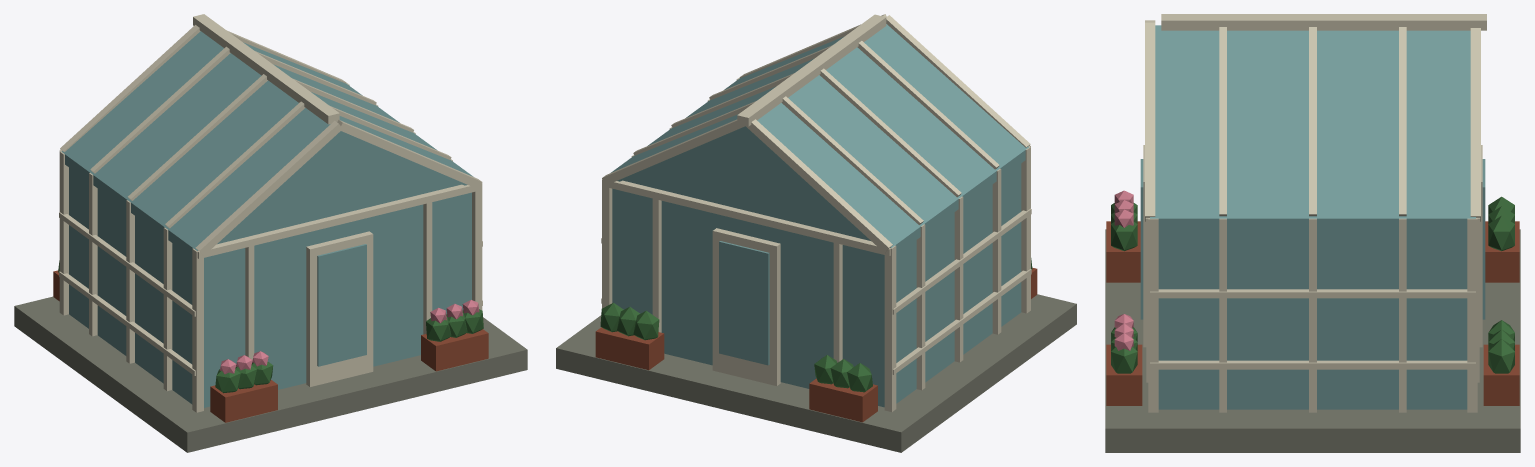
The model's file is Backyard_Greenhouse_Showcase.glb.
3 renders of one model, left to right at view 1: azimuth 30°, elevation 25°; view 2: azimuth 150°, elevation 25°; view 3: azimuth 270°, elevation 25°, orthographic. The views are drawn at different scales.
Parts seen in each view (by area): view 1: Backyard_Greenhouse_Showcase; view 2: Backyard_Greenhouse_Showcase; view 3: Backyard_Greenhouse_Showcase.
Boxes of the visible parts, <box> form: Backyard_Greenhouse_Showcase: <box>14,14,527,452</box>; Backyard_Greenhouse_Showcase: <box>556,14,1076,452</box>; Backyard_Greenhouse_Showcase: <box>1105,14,1520,452</box>.
Size of the model in its own units: 4.2 by 3.3 by 3.7.
